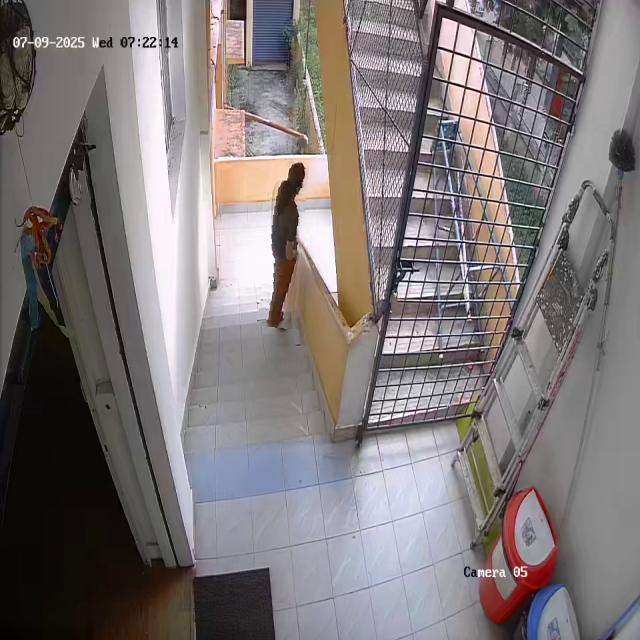person: (262, 159, 306, 329)
